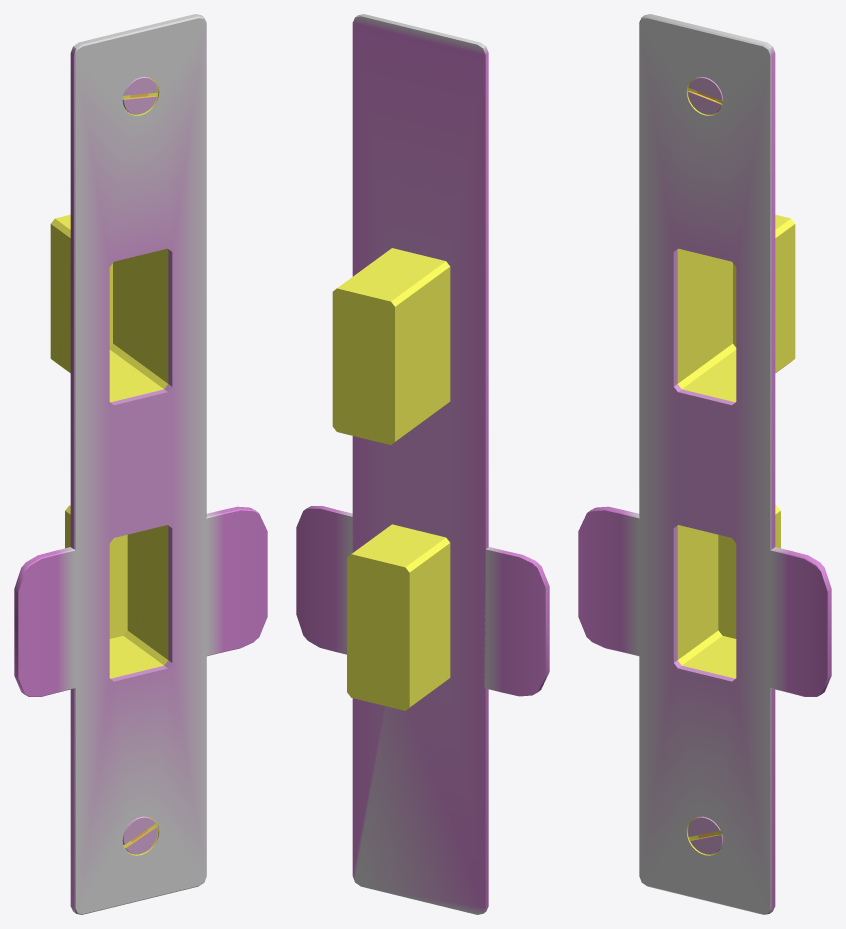
The model's file is Kit_Lock_StrikeMortise_DA.fbx.
3 views of the same model, side by side, from view 1: azimuth 30°, elevation 25°; view 2: azimuth 150°, elevation 25°; view 3: azimuth 330°, elevation 25° (orthographic).
Parts seen in each view (by area): view 1: Kit_Lock_StrikeMortise_DA_LOD0; view 2: Kit_Lock_StrikeMortise_DA_LOD0; view 3: Kit_Lock_StrikeMortise_DA_LOD0.
Boxes of the visible parts, x1=… form: Kit_Lock_StrikeMortise_DA_LOD0: x1=14, y1=14, x2=267, y2=914; Kit_Lock_StrikeMortise_DA_LOD0: x1=296, y1=14, x2=549, y2=914; Kit_Lock_StrikeMortise_DA_LOD0: x1=578, y1=14, x2=831, y2=914.
Size of what is drawn, in the model's own units: 0.06 by 0.2 by 0.0254.
